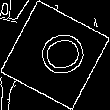O_W: (24, 27, 86, 83)
